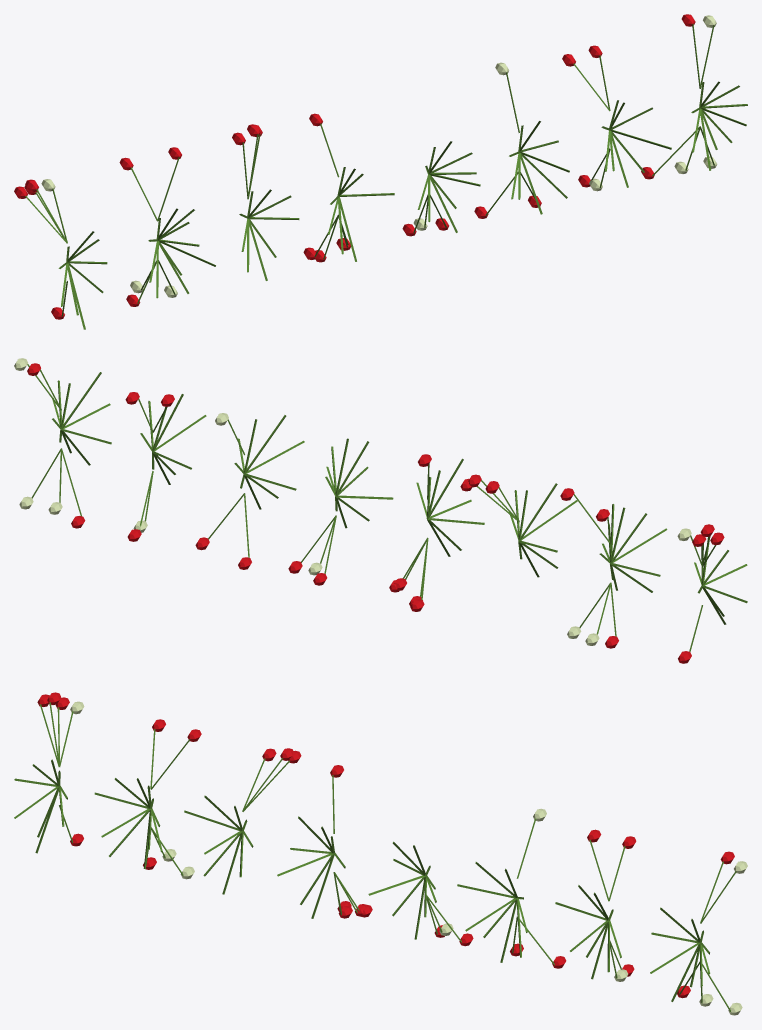
File: r31c5_rest.obj
The picture shows the model from 3 angles, top to bottom: view 1: azimuth 30°, elevation 25°; view 2: azimuth 150°, elevation 25°; view 3: azimuth 330°, elevation 25°; orthographic projection.
Parts seen in each view (by area): view 1: r31c5_rest; view 2: r31c5_rest; view 3: r31c5_rest.
Boxes of the visible parts, bbox=[...] form: r31c5_rest: bbox=[14, 14, 747, 329]; r31c5_rest: bbox=[14, 358, 747, 663]; r31c5_rest: bbox=[14, 692, 747, 1015].
Size of the model in its own units: 1.93 by 0.4003 by 0.2472.
